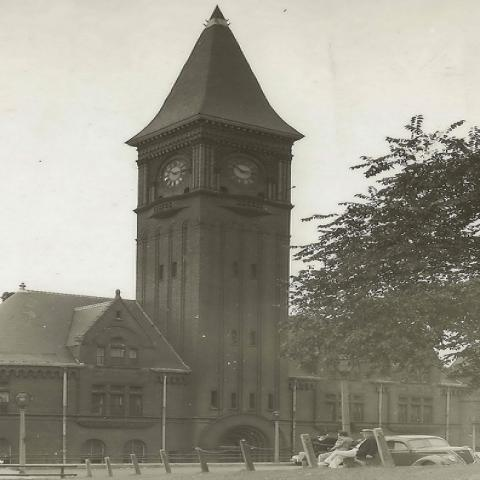car: (385, 435, 479, 466)
